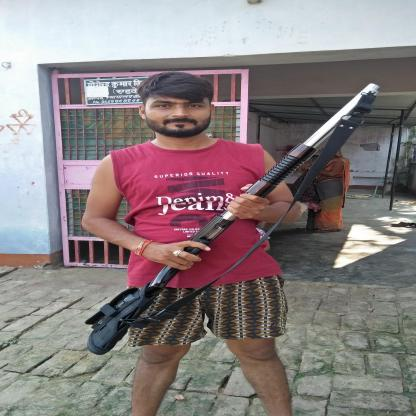rifle: (80, 80, 385, 357)
